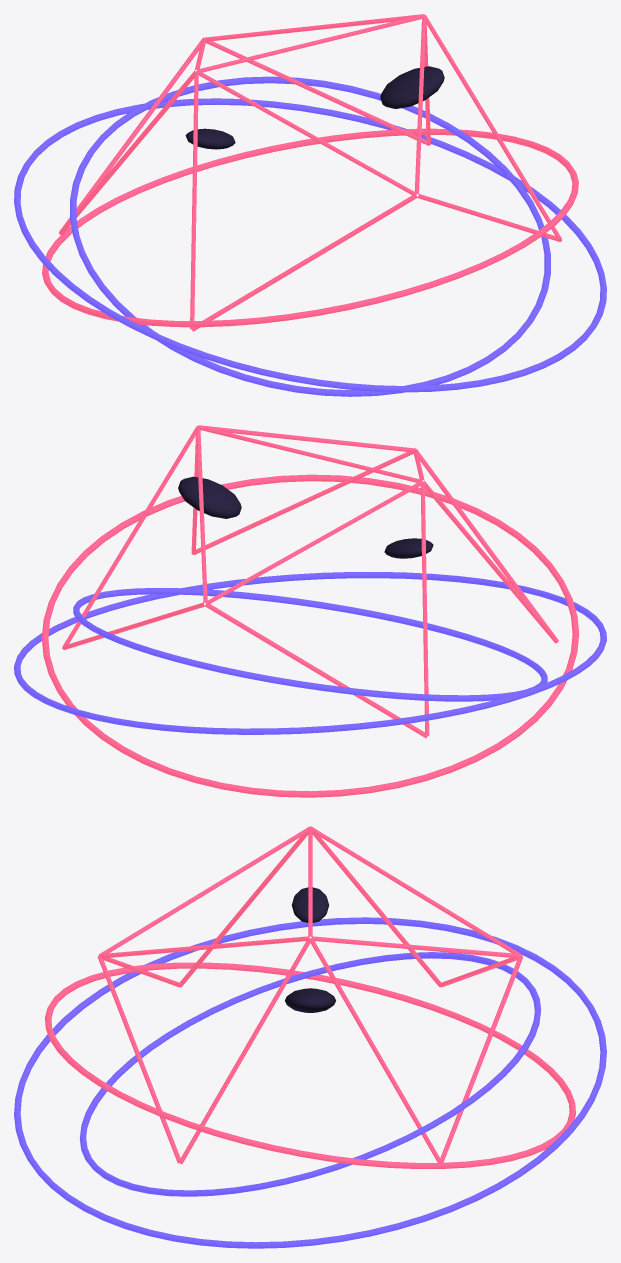
Rendered from avatar-nebulosa-kit-arquiteto.glb.
3 renders of one model, top to bottom at view 1: azimuth 30°, elevation 25°; view 2: azimuth 150°, elevation 25°; view 3: azimuth 270°, elevation 25°, orthographic.
Parts seen in each view (by area): view 1: kit_nebulosa_arquiteto_meshRingC, kit_nebulosa_arquiteto_meshRingA, kit_nebulosa_arquiteto_meshRingB, kit_nebulosa_arquiteto_pauldronL, kit_nebulosa_arquiteto_sysFrame01, kit_nebulosa_arquiteto_sysFrame00, kit_nebulosa_arquiteto_sysFrame10, kit_nebulosa_arquiteto_sysFrame02, kit_nebulosa_arquiteto_sysFrame12, kit_nebulosa_arquiteto_sysFrame04, kit_nebulosa_arquiteto_sysFrame08, kit_nebulosa_arquiteto_sysFrame05 (+4 smaller); view 2: kit_nebulosa_arquiteto_meshRingB, kit_nebulosa_arquiteto_meshRingC, kit_nebulosa_arquiteto_meshRingA, kit_nebulosa_arquiteto_pauldronL, kit_nebulosa_arquiteto_sysFrame07, kit_nebulosa_arquiteto_sysFrame11, kit_nebulosa_arquiteto_sysFrame06, kit_nebulosa_arquiteto_sysFrame08, kit_nebulosa_arquiteto_sysFrame09, kit_nebulosa_arquiteto_sysFrame04, kit_nebulosa_arquiteto_sysFrame00, kit_nebulosa_arquiteto_sysFrame03 (+4 smaller); view 3: kit_nebulosa_arquiteto_meshRingC, kit_nebulosa_arquiteto_meshRingB, kit_nebulosa_arquiteto_meshRingA, kit_nebulosa_arquiteto_sysFrame10, kit_nebulosa_arquiteto_sysFrame11, kit_nebulosa_arquiteto_sysFrame02, kit_nebulosa_arquiteto_sysFrame06, kit_nebulosa_arquiteto_sysFrame09, kit_nebulosa_arquiteto_sysFrame12, kit_nebulosa_arquiteto_sysFrame03, kit_nebulosa_arquiteto_sysFrame05, kit_nebulosa_arquiteto_pauldronL (+3 smaller).
Boxes of the visible parts, left/top/right/bottom form: kit_nebulosa_arquiteto_meshRingC: left=14, top=98, right=606, bottom=392; kit_nebulosa_arquiteto_meshRingA: left=70, top=76, right=550, bottom=396; kit_nebulosa_arquiteto_meshRingB: left=42, top=128, right=578, bottom=327; kit_nebulosa_arquiteto_pauldronL: left=380, top=66, right=444, bottom=108; kit_nebulosa_arquiteto_sysFrame01: left=191, top=195, right=417, bottom=331; kit_nebulosa_arquiteto_sysFrame00: left=190, top=71, right=198, bottom=329; kit_nebulosa_arquiteto_sysFrame10: left=426, top=16, right=561, bottom=238; kit_nebulosa_arquiteto_sysFrame02: left=196, top=70, right=417, bottom=195; kit_nebulosa_arquiteto_sysFrame12: left=206, top=41, right=428, bottom=145; kit_nebulosa_arquiteto_sysFrame04: left=197, top=14, right=424, bottom=72; kit_nebulosa_arquiteto_sysFrame08: left=59, top=70, right=194, bottom=235; kit_nebulosa_arquiteto_sysFrame05: left=205, top=14, right=423, bottom=41; kit_nebulosa_arquiteto_meshRingB: left=41, top=474, right=579, bottom=797; kit_nebulosa_arquiteto_meshRingC: left=14, top=572, right=606, bottom=734; kit_nebulosa_arquiteto_meshRingA: left=73, top=588, right=547, bottom=701; kit_nebulosa_arquiteto_pauldronL: left=178, top=476, right=241, bottom=518; kit_nebulosa_arquiteto_sysFrame07: left=205, top=603, right=427, bottom=738; kit_nebulosa_arquiteto_sysFrame11: left=63, top=427, right=196, bottom=645; kit_nebulosa_arquiteto_sysFrame06: left=205, top=480, right=422, bottom=603; kit_nebulosa_arquiteto_sysFrame08: left=420, top=481, right=429, bottom=736; kit_nebulosa_arquiteto_sysFrame09: left=194, top=452, right=413, bottom=554; kit_nebulosa_arquiteto_sysFrame04: left=198, top=425, right=422, bottom=482; kit_nebulosa_arquiteto_sysFrame00: left=424, top=481, right=558, bottom=643; kit_nebulosa_arquiteto_sysFrame03: left=199, top=425, right=415, bottom=452; kit_nebulosa_arquiteto_meshRingC: left=14, top=917, right=606, bottom=1248; kit_nebulosa_arquiteto_meshRingB: left=45, top=962, right=575, bottom=1168; kit_nebulosa_arquiteto_meshRingA: left=79, top=952, right=541, bottom=1196; kit_nebulosa_arquiteto_sysFrame10: left=179, top=938, right=310, bottom=1164; kit_nebulosa_arquiteto_sysFrame11: left=310, top=938, right=441, bottom=1162; kit_nebulosa_arquiteto_sysFrame02: left=99, top=826, right=309, bottom=954; kit_nebulosa_arquiteto_sysFrame06: left=311, top=826, right=521, bottom=954; kit_nebulosa_arquiteto_sysFrame09: left=97, top=956, right=180, bottom=1163; kit_nebulosa_arquiteto_sysFrame12: left=440, top=956, right=523, bottom=1162; kit_nebulosa_arquiteto_sysFrame03: left=98, top=936, right=309, bottom=958; kit_nebulosa_arquiteto_sysFrame05: left=311, top=936, right=522, bottom=958; kit_nebulosa_arquiteto_pauldronL: left=285, top=988, right=335, bottom=1012.
Bounding box in the file's own units: 1.24 × 0.6018 × 1.24.
